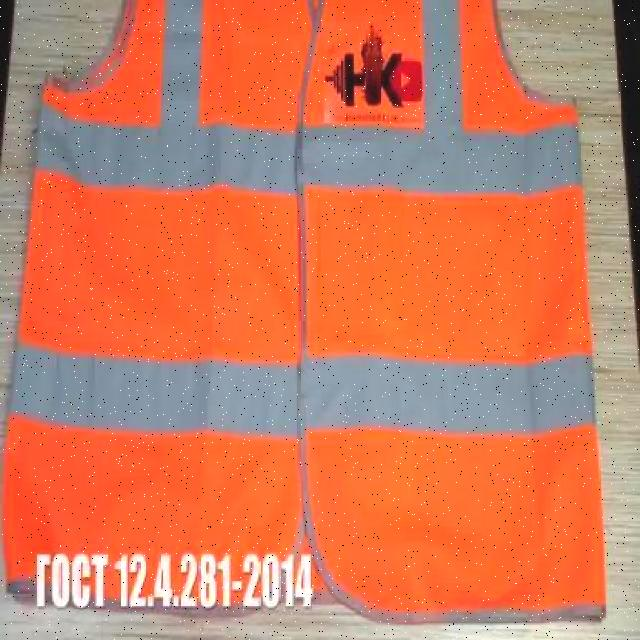Mask: (0, 1, 609, 628)
